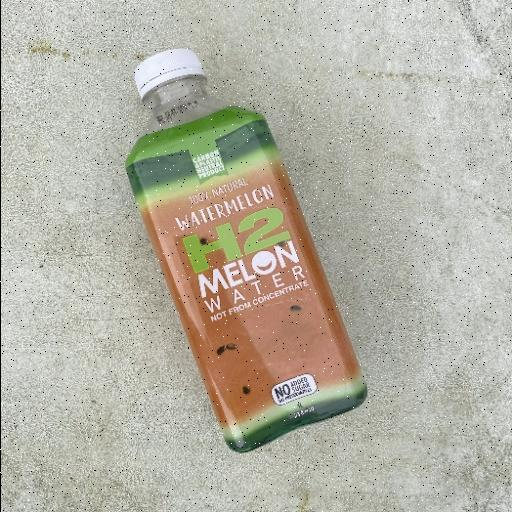Plastic: (122, 46, 370, 456)
